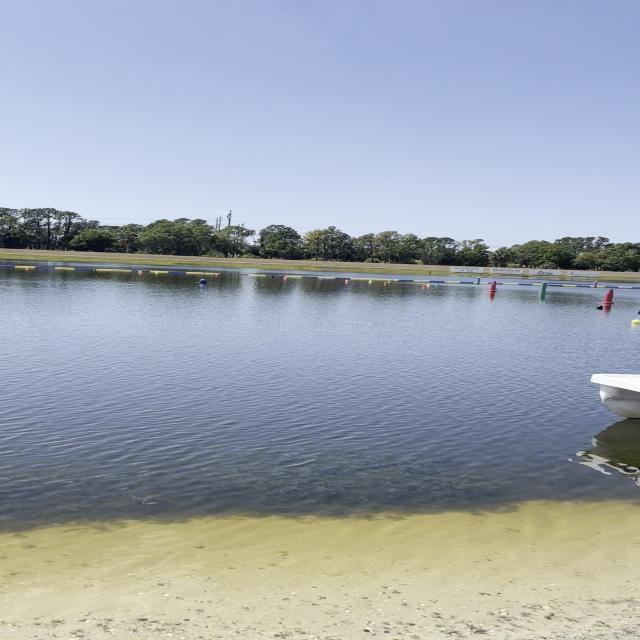buoy: (199, 278, 207, 283), (632, 319, 640, 324), (596, 305, 604, 309), (423, 284, 426, 288), (284, 276, 288, 278), (368, 280, 372, 282), (154, 271, 158, 273), (270, 275, 274, 277), (140, 270, 142, 273), (384, 282, 387, 284), (137, 270, 140, 272), (321, 277, 324, 279), (436, 284, 439, 286), (242, 274, 245, 276), (216, 274, 218, 276), (346, 280, 348, 282), (212, 273, 214, 275), (388, 280, 390, 282)
